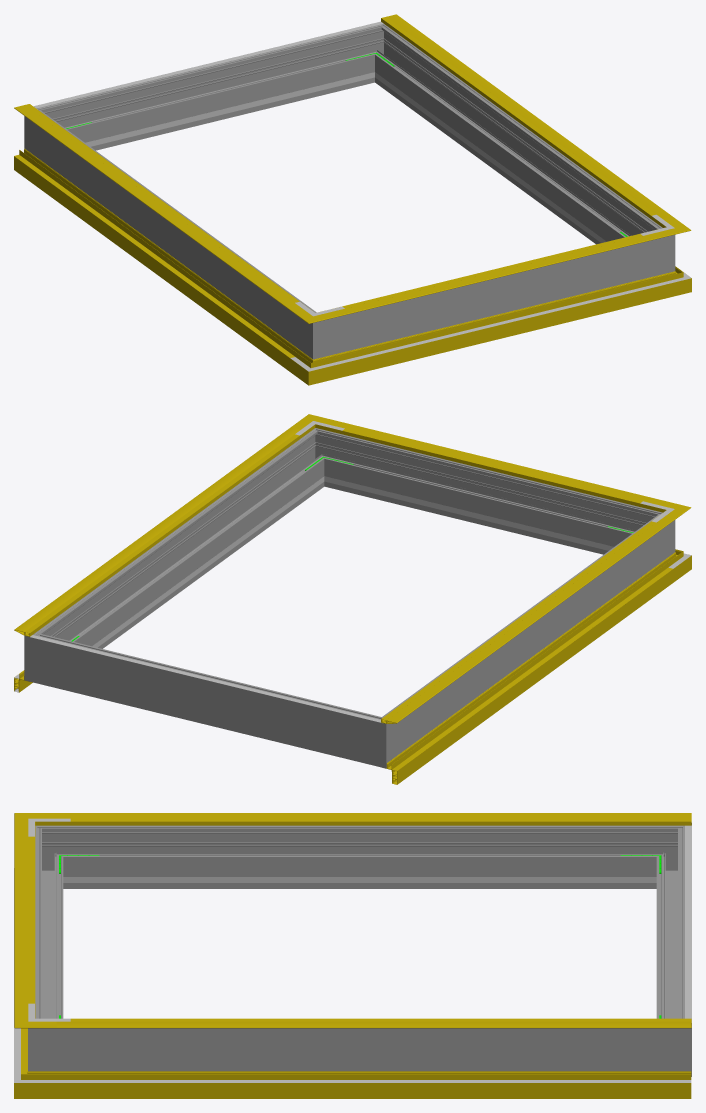
The picture shows the model from 3 angles, top to bottom: view 1: azimuth 30°, elevation 25°; view 2: azimuth 150°, elevation 25°; view 3: azimuth 270°, elevation 25°; orthographic projection. The views are drawn at different scales.
Visible parts, largest first — view 1: 3DGeom-276, 3DGeom-297, 3DGeom-298, 3DGeom-268, 3DGeom-90, 3DGeom-85, 3DGeom-145, 3DGeom-147, 3DGeom-141, 3DGeom-270, 3DGeom-105, 3DGeom-154 (+11 smaller); view 2: 3DGeom-298, 3DGeom-297, 3DGeom-276, 3DGeom-268, 3DGeom-85, 3DGeom-145, 3DGeom-141, 3DGeom-147, 3DGeom-278, 3DGeom-284, 3DGeom-105, 3DGeom-152 (+7 smaller); view 3: 3DGeom-268, 3DGeom-297, 3DGeom-97, 3DGeom-147, 3DGeom-145, 3DGeom-276, 3DGeom-298, 3DGeom-232, 3DGeom-141, 3DGeom-152, 3DGeom-154, 3DGeom-284 (+9 smaller).
Part boxes in pixels (x1=…): 3DGeom-276: x1=59, y1=30, x2=369, y2=150; 3DGeom-297: x1=378, y1=35, x2=651, y2=244; 3DGeom-298: x1=345, y1=242, x2=643, y2=351; 3DGeom-268: x1=42, y1=119, x2=304, y2=345; 3DGeom-90: x1=334, y1=276, x2=659, y2=377; 3DGeom-85: x1=14, y1=148, x2=300, y2=371; 3DGeom-145: x1=381, y1=14, x2=672, y2=223; 3DGeom-147: x1=14, y1=105, x2=300, y2=309; 3DGeom-141: x1=335, y1=233, x2=659, y2=315; 3DGeom-270: x1=294, y1=304, x2=344, y2=359; 3DGeom-105: x1=14, y1=155, x2=294, y2=357; 3DGeom-154: x1=25, y1=104, x2=299, y2=302; 3DGeom-298: x1=329, y1=434, x2=640, y2=554; 3DGeom-297: x1=48, y1=439, x2=321, y2=648; 3DGeom-276: x1=56, y1=639, x2=359, y2=760; 3DGeom-268: x1=394, y1=523, x2=656, y2=749; 3DGeom-85: x1=385, y1=561, x2=673, y2=784; 3DGeom-145: x1=14, y1=427, x2=305, y2=636; 3DGeom-141: x1=331, y1=422, x2=658, y2=509; 3DGeom-147: x1=381, y1=518, x2=672, y2=723; 3DGeom-278: x1=354, y1=708, x2=404, y2=768; 3DGeom-284: x1=24, y1=623, x2=61, y2=687; 3DGeom-105: x1=392, y1=567, x2=672, y2=771; 3DGeom-152: x1=25, y1=434, x2=299, y2=633; 3DGeom-268: x1=70, y1=825, x2=649, y2=888; 3DGeom-297: x1=70, y1=1028, x2=649, y2=1071; 3DGeom-97: x1=56, y1=1071, x2=691, y2=1098; 3DGeom-147: x1=56, y1=813, x2=691, y2=825; 3DGeom-145: x1=56, y1=1021, x2=691, y2=1028; 3DGeom-276: x1=656, y1=840, x2=684, y2=1018; 3DGeom-298: x1=35, y1=840, x2=63, y2=1018; 3DGeom-232: x1=104, y1=877, x2=615, y2=882; 3DGeom-141: x1=14, y1=830, x2=35, y2=1009; 3DGeom-152: x1=70, y1=1018, x2=691, y2=1021; 3DGeom-154: x1=70, y1=818, x2=691, y2=821; 3DGeom-284: x1=649, y1=1008, x2=691, y2=1076.
Size of the model in its own units: 1.83 by 0.2829 by 2.44.
